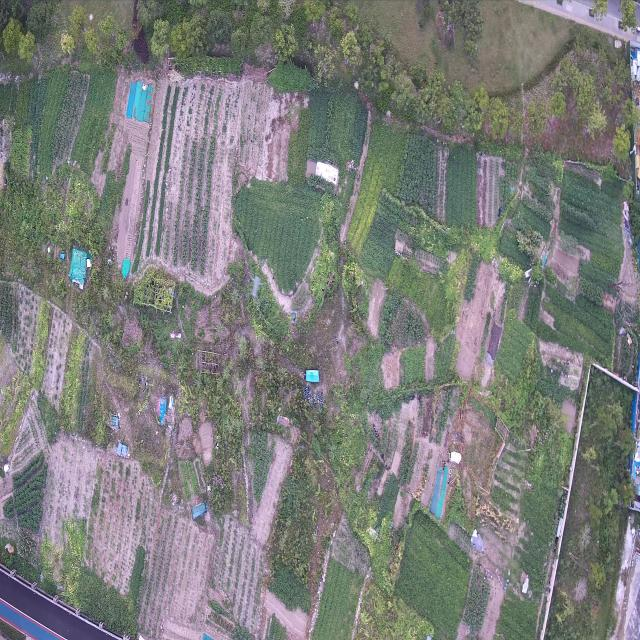UAV: (246, 270, 267, 306)
